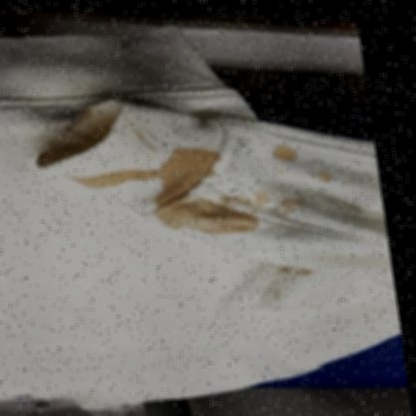coffee: (164, 202, 255, 231), (166, 154, 206, 187), (93, 169, 166, 186), (274, 145, 296, 161)
